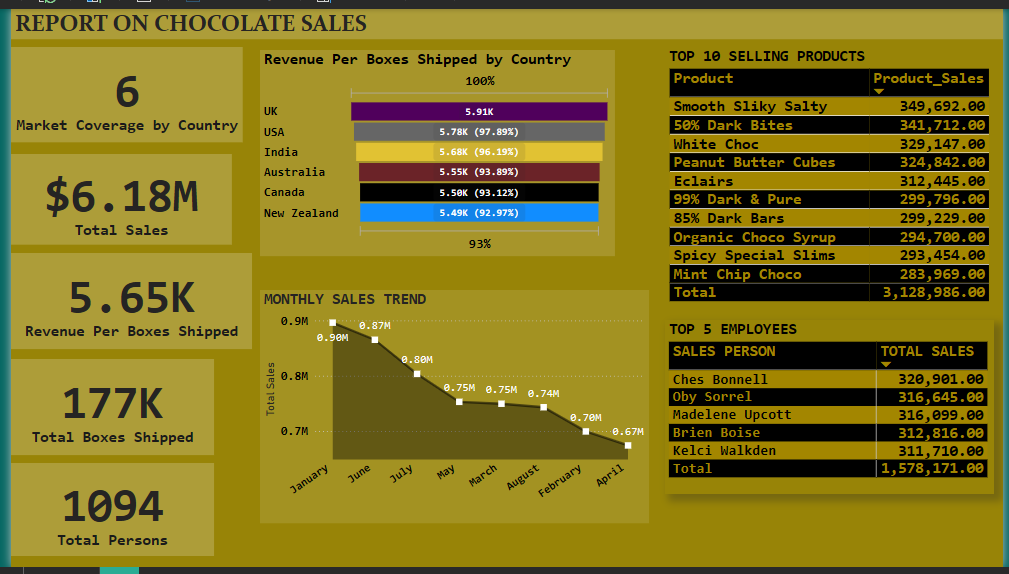

Layout of this report page (visuals, bound fields, positions):
{"tool":"powerbi","page":{"name":"Page 1","canvas":[1280,720],"ordinal":0},"visuals":[{"type":"textbox","title":"REPORT ON CHOCOLATE SALES","box":[0,0,1279.5,39],"z":0},{"type":"card","fields":{"Values":["chocolate_sales chocolate_sale_1.Total Sales"]},"box":[0,186.5,284.8,117.1],"z":1000},{"type":"card","fields":{"Values":["Sum(chocolate_sales chocolate_sale_1.Boxes Shipped)"]},"box":[0,451.1,261.7,124.3],"z":2000},{"type":"card","fields":{"Values":["chocolate_sales chocolate_sale_1.Revenue Per Boxes Shipped"]},"box":[0,315.2,310.8,124.3],"z":3000},{"type":"card","fields":{"Values":["chocolate_sales chocolate_sale_1.Market Coverage by Country"]},"box":[0,49.2,299.3,122.9],"z":4000},{"type":"pivotTable","title":"TOP 5 EMPLOYEES","fields":{"Rows":["Query3.Sales Person"],"Values":["Sum(Query3.TOTAL_SALES)"]},"box":[844.3,401.9,425.1,224.1],"z":5000},{"type":"tableEx","title":"TOP 10 SELLING PRODUCTS","fields":{"Values":["Query2.Product","Query2.Product_Sales"]},"box":[844.3,49.2,425.1,352.8],"z":6000},{"type":"funnel","fields":{"Category":["chocolate_sales chocolate_sale_1.Country"],"Y":["chocolate_sales chocolate_sale_1.Revenue Per Boxes Shipped"]},"box":[321,53.5,458.3,266],"z":7000},{"type":"lineChart","title":"MONTHLY SALES TREND","fields":{"Category":["Query4.Sales_Month"],"Y":["Sum(Query4.Total_Sales)"]},"box":[321,362.9,501.7,300.7],"z":8000},{"type":"card","fields":{"Values":["chocolate_sales chocolate_sale_1.Total Persons"]},"box":[0,585.5,261.7,120],"z":9000}]}

Visuals, with their boxes in screenshot pixels (x1, y1, x2, y2), scaled from the page's 1280x720 canvas onto the 1009x574 screenshot:
"REPORT ON CHOCOLATE SALES" textbox: box=[0, 0, 1008, 31]
card - chocolate_sales chocolate_sale_1.Total Sales: box=[0, 149, 225, 242]
card - Sum(chocolate_sales chocolate_sale_1.Boxes Shipped): box=[0, 360, 206, 459]
card - chocolate_sales chocolate_sale_1.Revenue Per Boxes Shipped: box=[0, 251, 245, 350]
card - chocolate_sales chocolate_sale_1.Market Coverage by Country: box=[0, 39, 236, 137]
"TOP 5 EMPLOYEES" pivotTable: box=[666, 320, 1001, 499]
"TOP 10 SELLING PRODUCTS" tableEx: box=[666, 39, 1001, 320]
funnel - chocolate_sales chocolate_sale_1.Country x chocolate_sales chocolate_sale_1.Revenue Per Boxes Shipped: box=[253, 43, 614, 255]
"MONTHLY SALES TREND" lineChart: box=[253, 289, 649, 529]
card - chocolate_sales chocolate_sale_1.Total Persons: box=[0, 467, 206, 562]
